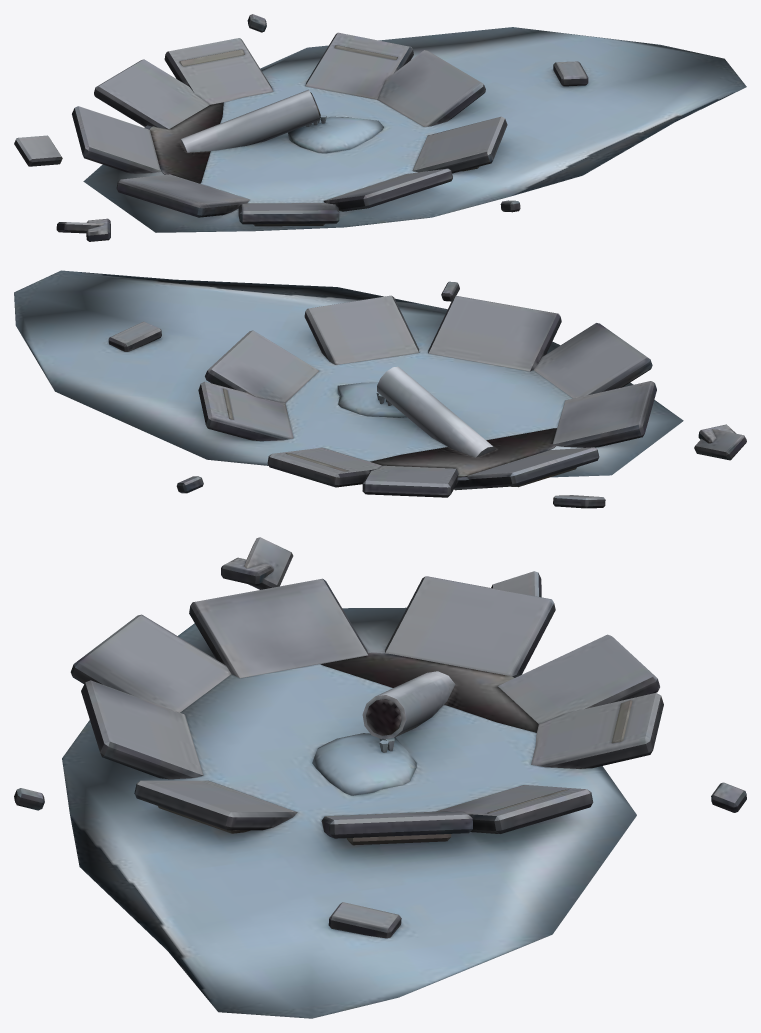
The model's file is asphalt_hole.glb.
3 renders of one model, top to bottom at view 1: azimuth 30°, elevation 25°; view 2: azimuth 150°, elevation 25°; view 3: azimuth 270°, elevation 25°, orthographic. The views are drawn at different scales.
Visible parts, largest first — view 1: asphalt_hole; view 2: asphalt_hole; view 3: asphalt_hole.
Part boxes in pixels (left/top/right/bottom): asphalt_hole: left=14, top=14, right=746, bottom=241; asphalt_hole: left=14, top=270, right=746, bottom=508; asphalt_hole: left=14, top=537, right=746, bottom=1018.
Bounding box in the file's own units: 5.3 × 0.5151 × 3.55.
1 material, 1 textured.
